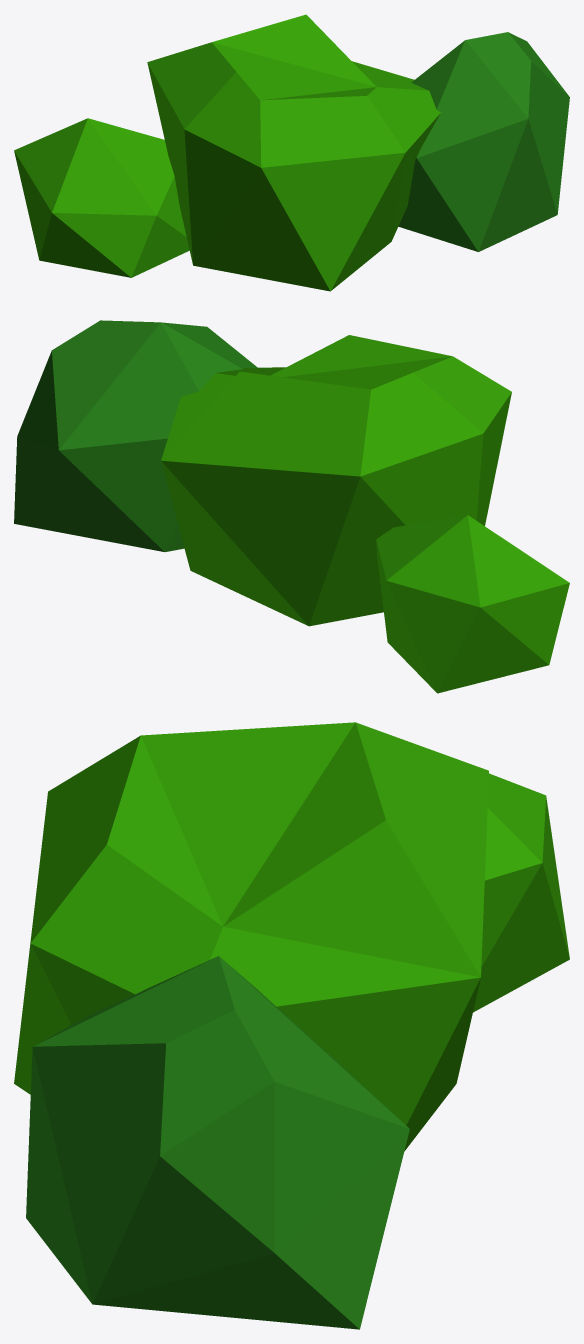
The model's file is Bush3.fbx.
3 views of the same model, one above another, from view 1: azimuth 30°, elevation 25°; view 2: azimuth 150°, elevation 25°; view 3: azimuth 270°, elevation 25° (orthographic). The views are drawn at different scales.
Visible parts, largest first — view 1: Bush3; view 2: Bush3; view 3: Bush3.
Boxes of the visible parts, <box> form: Bush3: <box>14,14,569,291</box>; Bush3: <box>14,320,569,693</box>; Bush3: <box>14,722,569,1329</box>.
Size of the model in its own units: 393 by 144 by 214.
